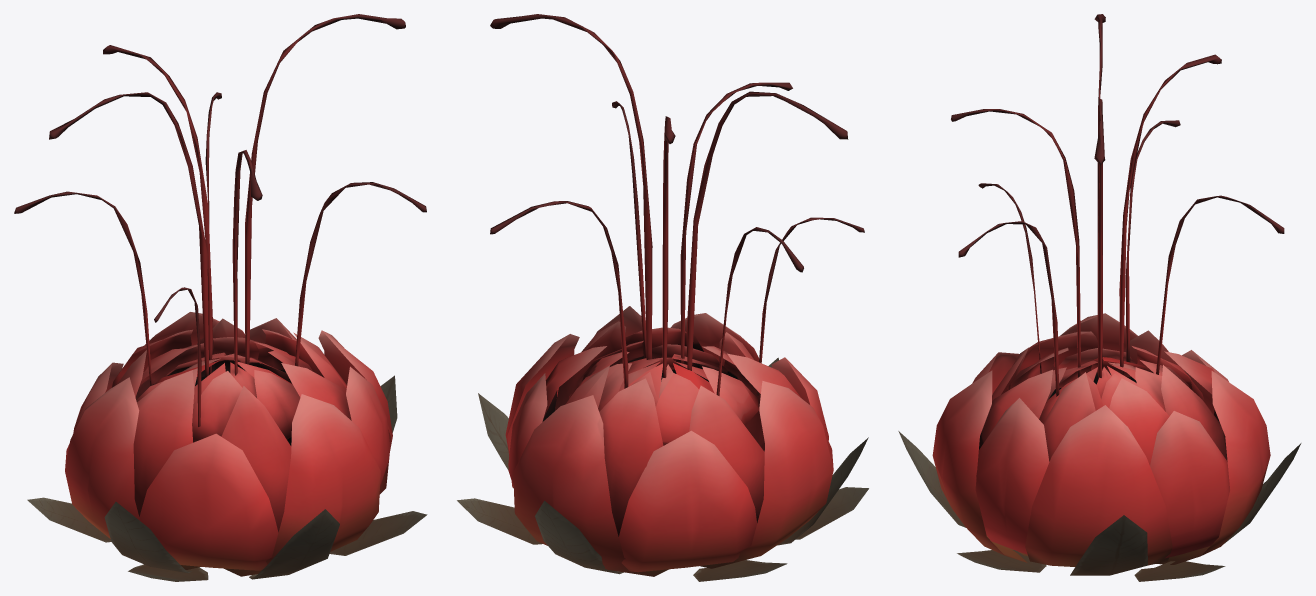
Rendered from flower_LOD2.fbx.
The picture shows the model from 3 angles, left to right: view 1: azimuth 30°, elevation 25°; view 2: azimuth 150°, elevation 25°; view 3: azimuth 270°, elevation 25°; orthographic projection. The views are drawn at different scales.
Visible parts, largest first — view 1: PlantFlower8; view 2: PlantFlower8; view 3: PlantFlower8.
Part boxes in pixels (x1,y1,x2,y2): PlantFlower8: [14, 14, 427, 581]; PlantFlower8: [457, 14, 868, 581]; PlantFlower8: [898, 14, 1301, 581].
Bounding box in the file's own units: 7.43 × 9.8 × 7.41.
Materials: 1 (1 with a texture image).
